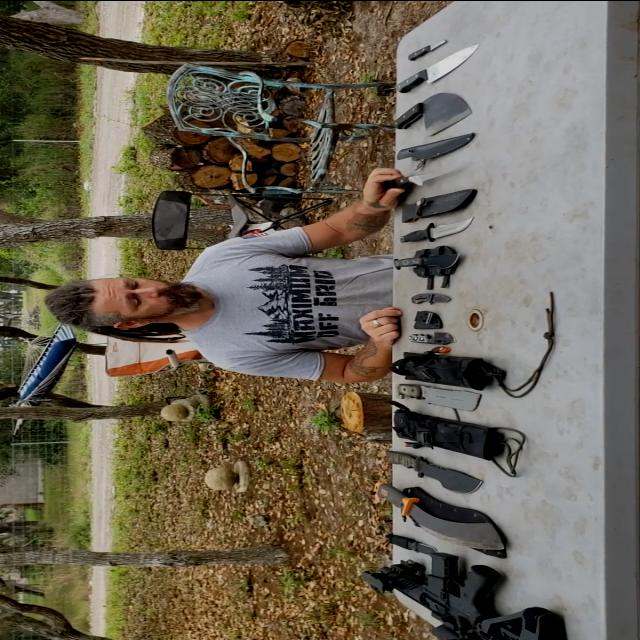knife: (361, 472, 497, 548), (378, 28, 469, 98), (367, 444, 482, 490), (380, 376, 483, 407), (373, 215, 487, 243), (377, 524, 452, 564), (368, 96, 471, 124), (384, 160, 468, 188), (380, 245, 462, 273), (386, 317, 460, 347), (396, 32, 458, 62), (399, 280, 457, 308)
long weapon: (362, 548, 563, 639)
